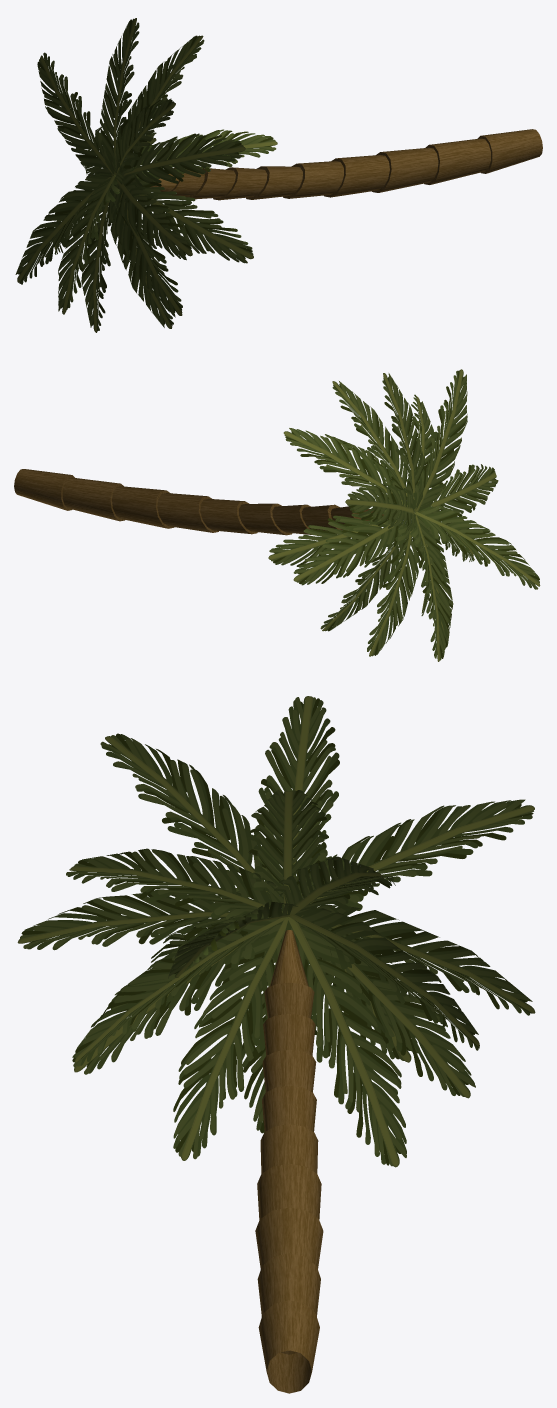
The model's file is tree.fbx.
3 views of the same model, one above another, from view 1: azimuth 30°, elevation 25°; view 2: azimuth 150°, elevation 25°; view 3: azimuth 270°, elevation 25° (orthographic). The views are drawn at different scales.
Parts seen in each view (by area): view 1: Palmier; view 2: Palmier; view 3: Palmier.
Part boxes in pixels (x1,y1,x2,y2): Palmier: [15, 18, 542, 332]; Palmier: [14, 369, 540, 661]; Palmier: [17, 696, 535, 1393].
Bounding box in the file's own units: 208 × 114 × 111.
